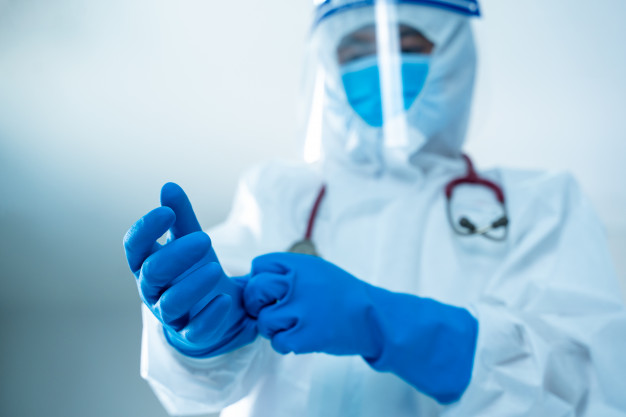Coverall: (139, 1, 625, 414)
Face_Shield: (306, 2, 481, 180)
Gloves: (244, 251, 477, 402), (124, 181, 247, 351)
with_mask: (338, 33, 432, 124)
